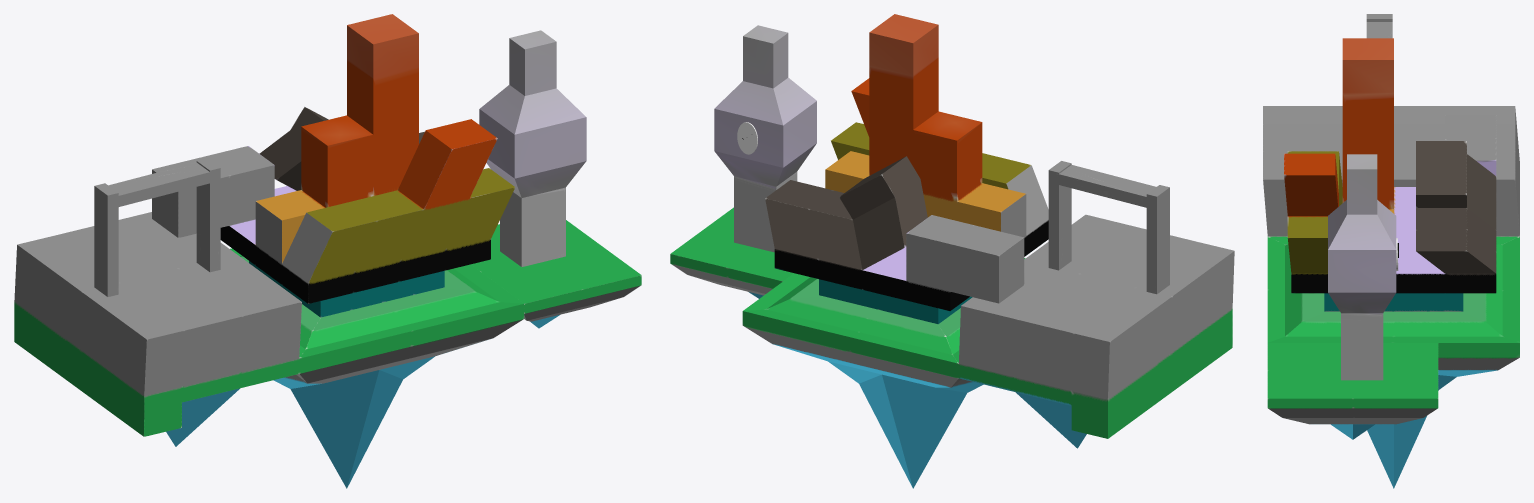
Rendered from skyBulding.obj.
3 views of the same model, side by side, from view 1: azimuth 30°, elevation 25°; view 2: azimuth 150°, elevation 25°; view 3: azimuth 270°, elevation 25° (orthographic). The views are drawn at different scales.
Parts seen in each view (by area): view 1: 立方体.004; view 2: 立方体.004; view 3: 立方体.004.
Part boxes in pixels (left/top/right/bottom): 立方体.004: left=14, top=14, right=641, bottom=488; 立方体.004: left=670, top=14, right=1234, bottom=488; 立方体.004: left=1263, top=14, right=1519, bottom=488.
Size of the model in its own units: 31.76 by 28.29 by 14.62.
Materials: 1 (1 with a texture image).
